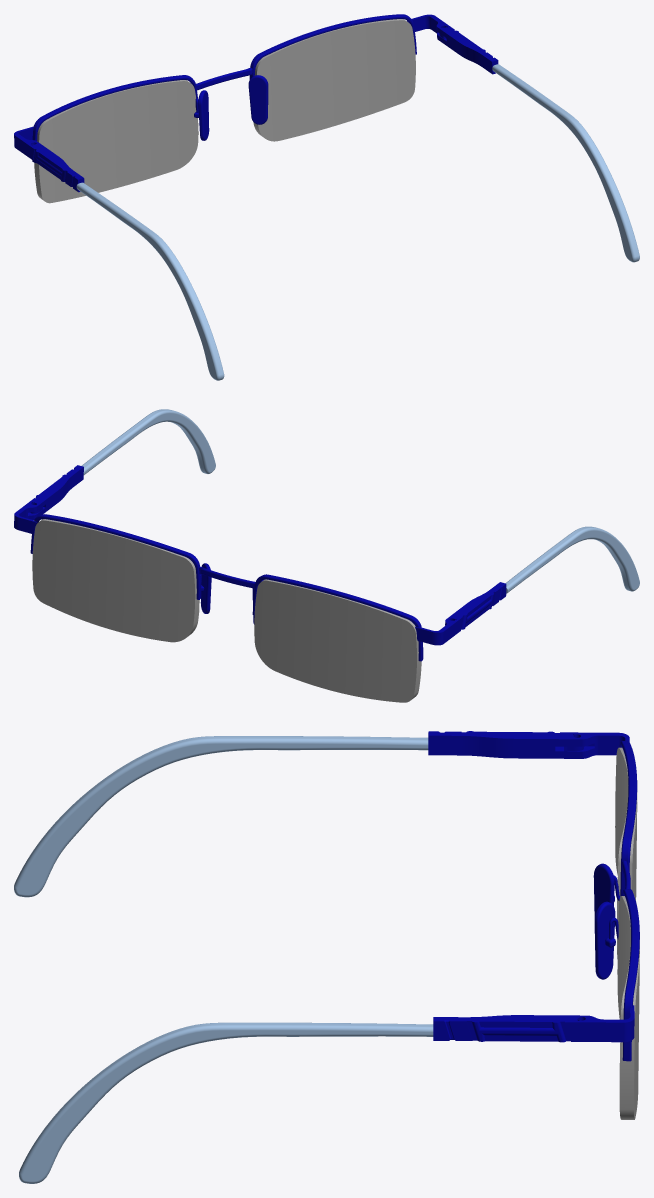
Rendered from done14.fbx.
3 views of the same model, one above another, from view 1: azimuth 30°, elevation 25°; view 2: azimuth 150°, elevation 25°; view 3: azimuth 270°, elevation 25° (orthographic). The views are drawn at different scales.
Parts seen in each view (by area): view 1: Body_1, Body_1_7, Body_1_4, Body_1_6, Body_11, Body_1_3, Body_1_2, Body_1_5, Body_8, Body_10; view 2: Body_1, Body_1_7, Body_1_6, Body_1_4, Body_11, Body_1_2, Body_1_5, Body_1_3, Body_6, Body_4, Body_8; view 3: Body_1_4, Body_1_6, Body_1_3, Body_1_5, Body_1, Body_1_7, Body_8, Body_11, Body_1_2, Body_4, Body_6, Body_10.
Boxes of the visible parts, bbox=[...] form: Body_1: bbox=[253, 19, 415, 141]; Body_1_7: bbox=[34, 80, 198, 203]; Body_1_4: bbox=[492, 64, 639, 262]; Body_1_6: bbox=[76, 182, 224, 380]; Body_11: bbox=[32, 67, 252, 162]; Body_1_3: bbox=[439, 25, 498, 74]; Body_1_2: bbox=[249, 14, 416, 79]; Body_1_5: bbox=[28, 143, 84, 192]; Body_8: bbox=[248, 75, 268, 124]; Body_10: bbox=[194, 90, 209, 140]; Body_1: bbox=[32, 519, 199, 642]; Body_1_7: bbox=[254, 579, 421, 702]; Body_1_6: bbox=[505, 526, 639, 593]; Body_1_4: bbox=[81, 409, 215, 474]; Body_11: bbox=[199, 566, 423, 661]; Body_1_2: bbox=[30, 514, 201, 599]; Body_1_5: bbox=[449, 582, 506, 633]; Body_1_3: bbox=[29, 465, 83, 514]; Body_6: bbox=[421, 617, 457, 645]; Body_4: bbox=[14, 502, 40, 533]; Body_8: bbox=[200, 563, 211, 613]; Body_1_4: bbox=[19, 1022, 433, 1183]; Body_1_6: bbox=[14, 736, 428, 897]; Body_1_3: bbox=[433, 1015, 582, 1042]; Body_1_5: bbox=[428, 731, 583, 758]; Body_1: bbox=[617, 896, 639, 1119]; Body_1_7: bbox=[615, 747, 637, 958]; Body_8: bbox=[594, 901, 618, 979]; Body_11: bbox=[619, 740, 637, 896]; Body_1_2: bbox=[622, 889, 639, 1061]; Body_4: bbox=[577, 1010, 634, 1042]; Body_6: bbox=[572, 732, 629, 758]; Body_10: bbox=[593, 863, 619, 917].
Bounding box in the file's own units: 16.04 × 4.62 × 13.29.
